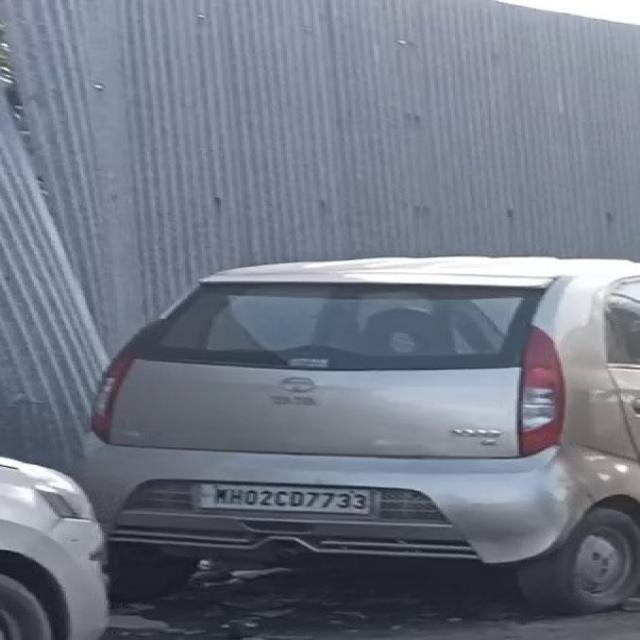Plate: (192, 480, 373, 515)
